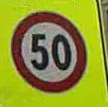limite 50: (9, 9, 86, 92)
